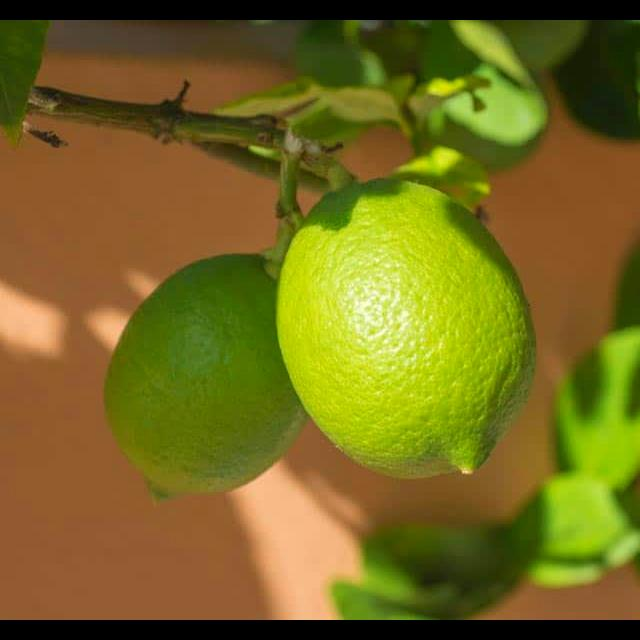lime: (271, 174, 544, 486), (97, 242, 323, 513)
